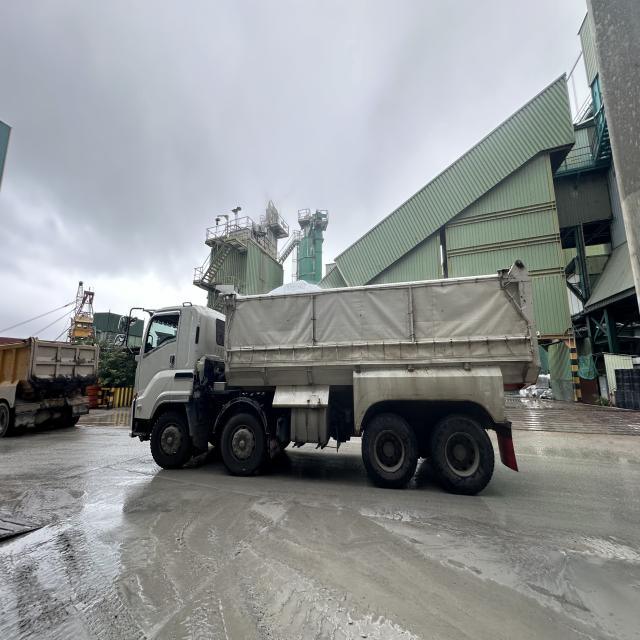machinery: (124, 257, 546, 504), (1, 326, 98, 437)
